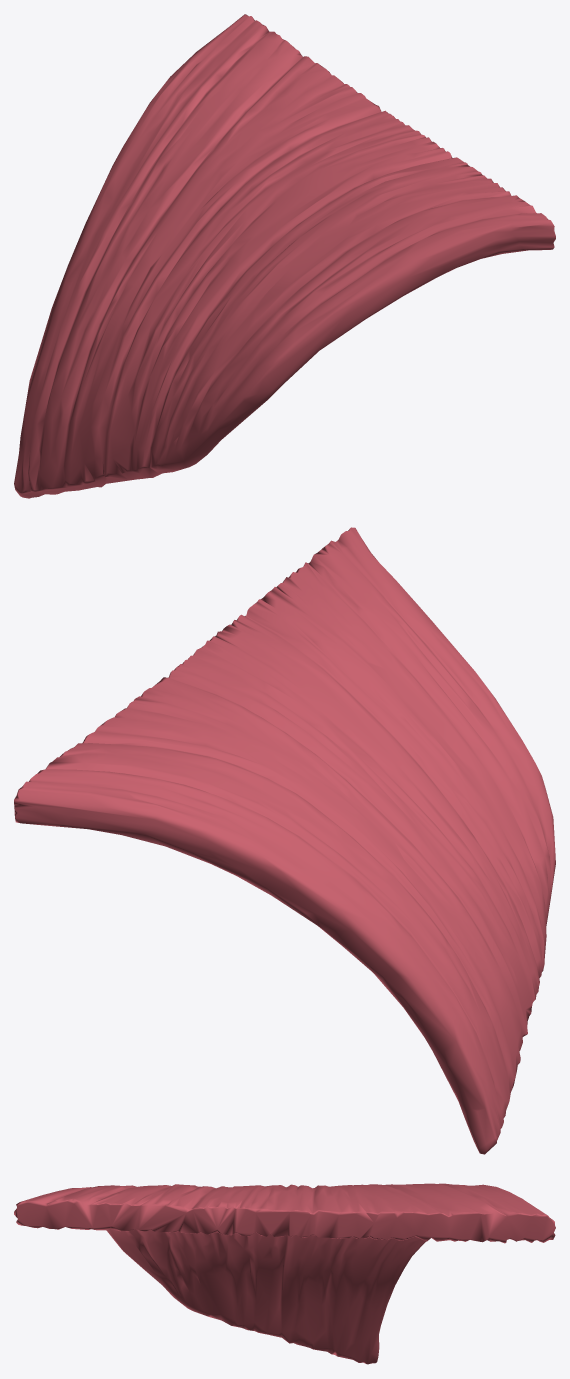
3 renders of one model, top to bottom at view 1: azimuth 30°, elevation 25°; view 2: azimuth 150°, elevation 25°; view 3: azimuth 270°, elevation 25°, orthographic. The views are drawn at different scales.
Visible parts, largest first — view 1: 右侧咽上缩肌; view 2: 右侧咽上缩肌; view 3: 右侧咽上缩肌.
Part boxes in pixels (left/top/right/bottom): 右侧咽上缩肌: left=14, top=14, right=555, bottom=498; 右侧咽上缩肌: left=14, top=527, right=555, bottom=1154; 右侧咽上缩肌: left=14, top=1183, right=555, bottom=1364.
Size of the model in its own units: 0.0486 by 0.0481 by 0.079.
